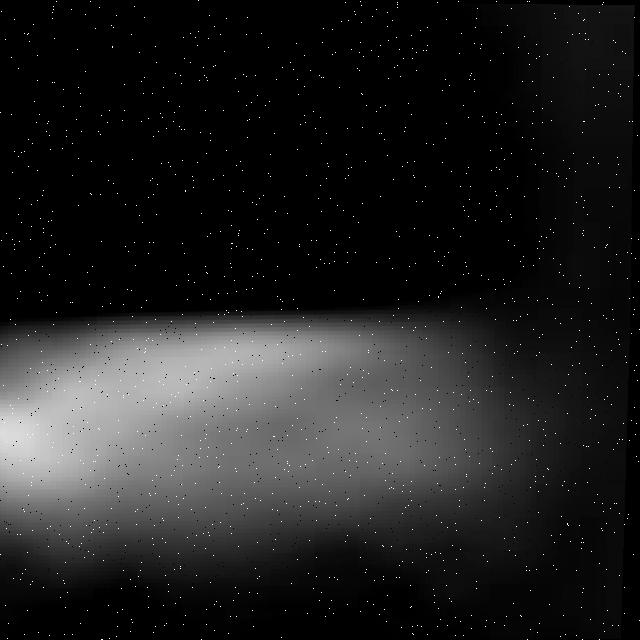person: (1, 293, 550, 568)
